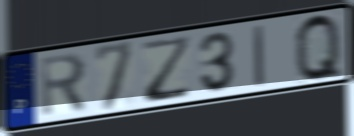3: (197, 28, 237, 94)
7: (94, 39, 136, 114)
I: (252, 22, 266, 89)
Q: (292, 10, 346, 83)
R: (39, 50, 90, 121)
Z: (139, 32, 192, 105)
